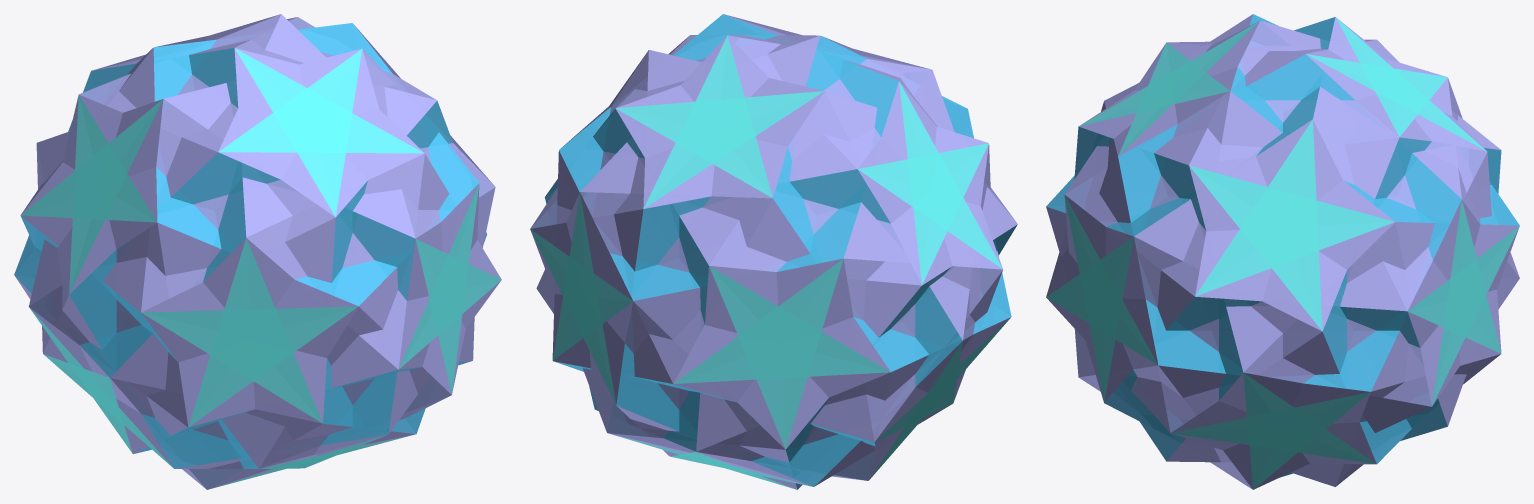
File: SnubIcosidodecadodecahedron.obj
3 views of the same model, side by side, from view 1: azimuth 30°, elevation 25°; view 2: azimuth 150°, elevation 25°; view 3: azimuth 270°, elevation 25° (orthographic).
Size of the model in its own units: 2.21 by 2.21 by 2.21.
